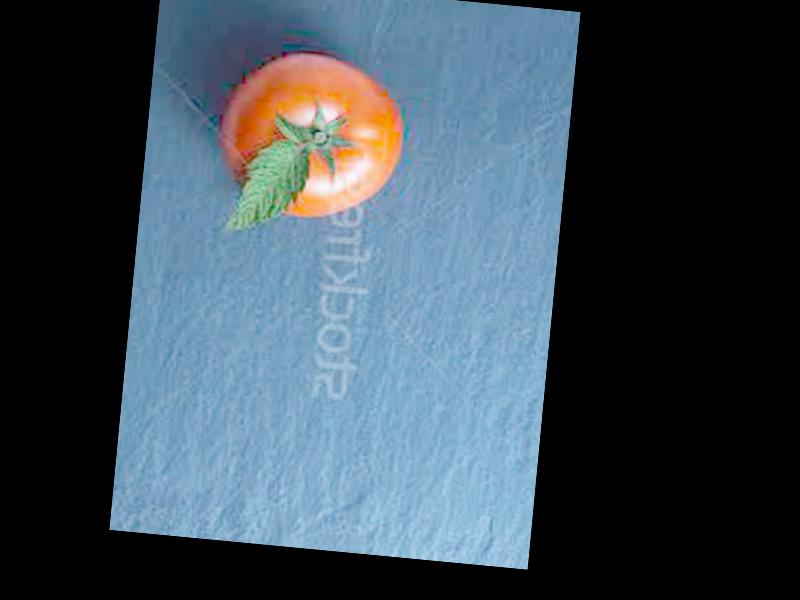Tomato: (217, 48, 409, 227)
